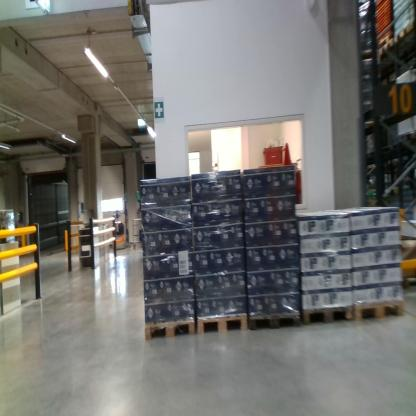pallet: (302, 295, 355, 336), (195, 304, 251, 340), (248, 304, 305, 338), (352, 292, 407, 327), (143, 320, 198, 344), (394, 19, 413, 52), (375, 40, 394, 63)
pallet_truck: (104, 201, 132, 252)
